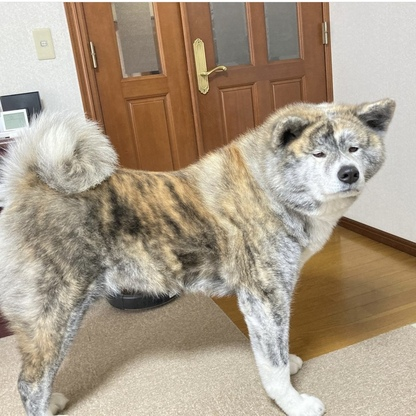akita: (1, 96, 399, 416)
